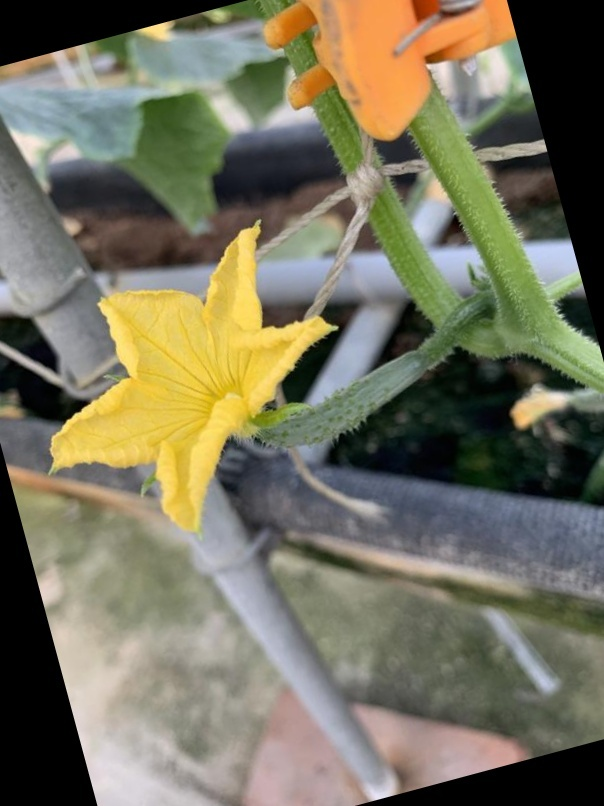flowering: (56, 220, 445, 545)
